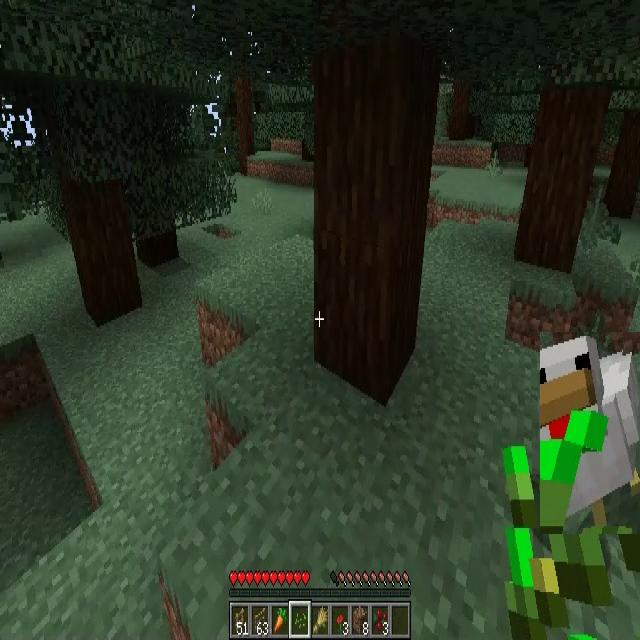duck: (540, 332, 640, 534)
